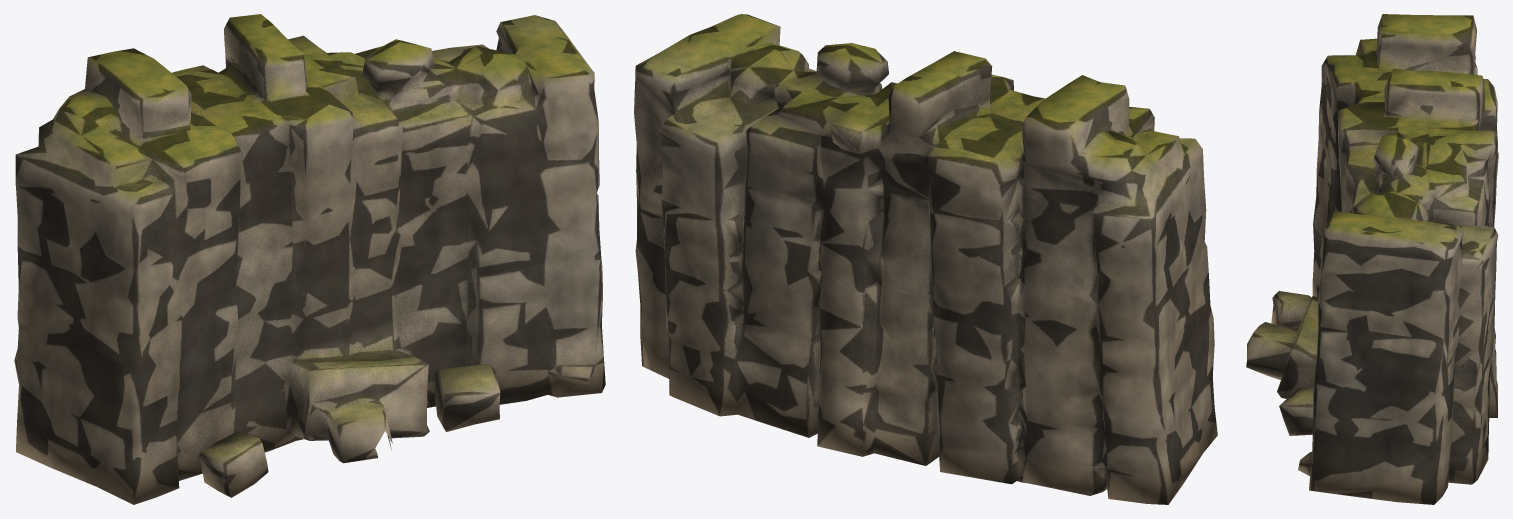
File: lf_arena_cliff_a.glb
3 views of the same model, side by side, from view 1: azimuth 30°, elevation 25°; view 2: azimuth 150°, elevation 25°; view 3: azimuth 270°, elevation 25° (orthographic). The views are drawn at different scales.
Visible parts, largest first — view 1: lf_arena_cliff_a_LOD0; view 2: lf_arena_cliff_a_LOD0; view 3: lf_arena_cliff_a_LOD0.
Part boxes in pixels (x1,y1,x2,y2): lf_arena_cliff_a_LOD0: [14, 14, 605, 504]; lf_arena_cliff_a_LOD0: [634, 14, 1217, 504]; lf_arena_cliff_a_LOD0: [1246, 14, 1498, 504].
Size of what is drawn, in the model's own units: 10.53 by 6.88 by 5.13.
1 material, 1 textured.
